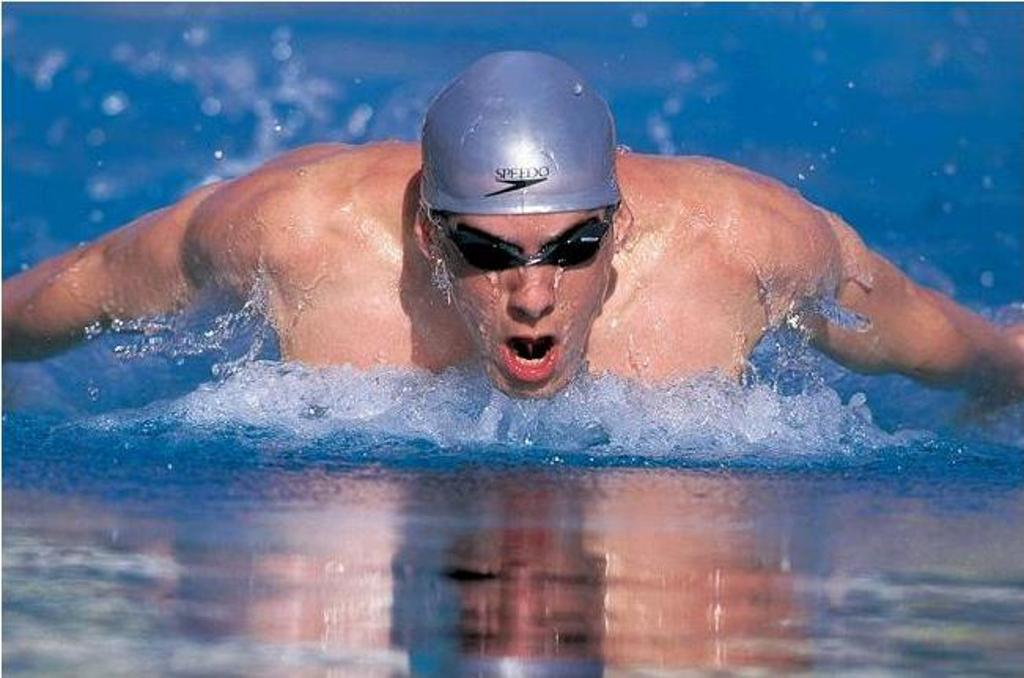face: (441, 181, 609, 405)
